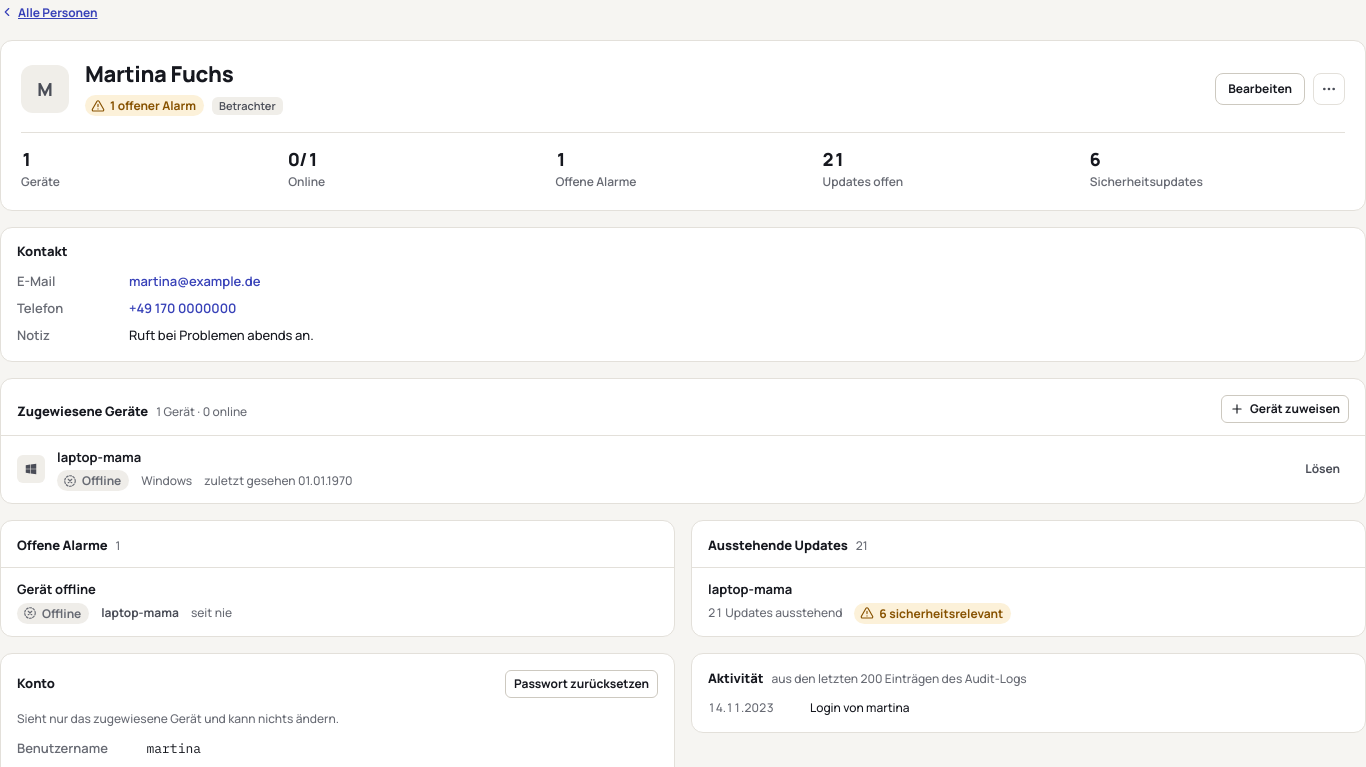
Scenario: PersonDetail › assigns a device from the fleet
Click the button "Gerät zuweisen" at [1285, 408], box [1221,394,1349,422]
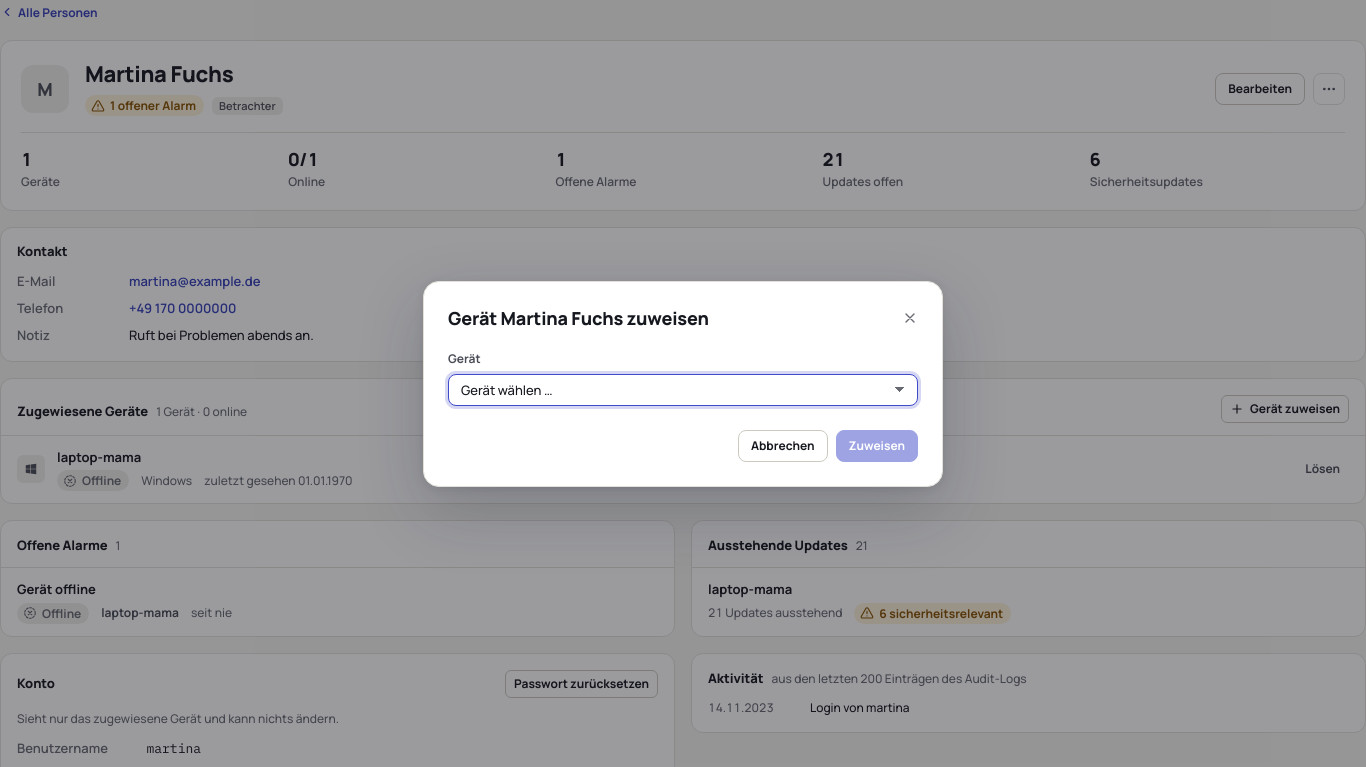
Select "drucker" in the dropdown labelled "Gerät" at [683, 390], box [448,374,918,406]
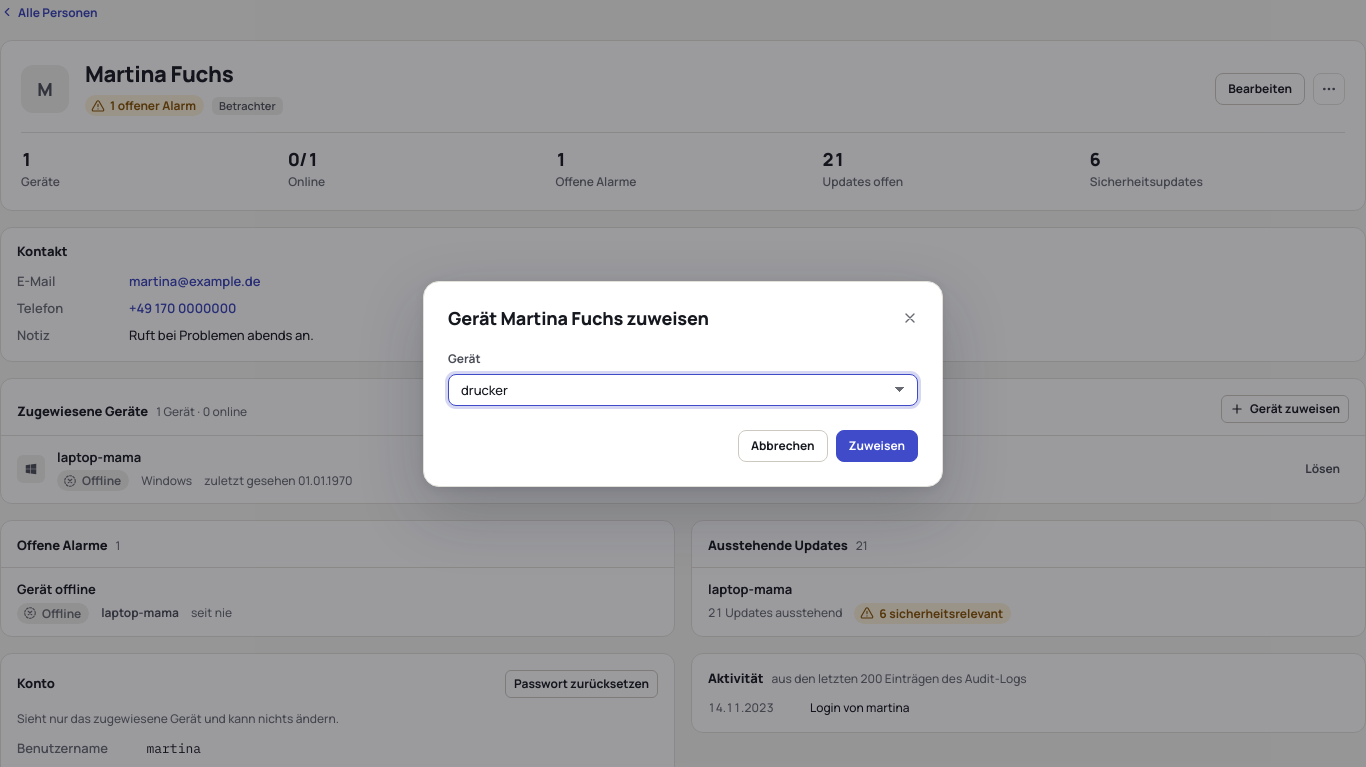
Click the button "Zuweisen" at [877, 446], box [836,430,918,462]
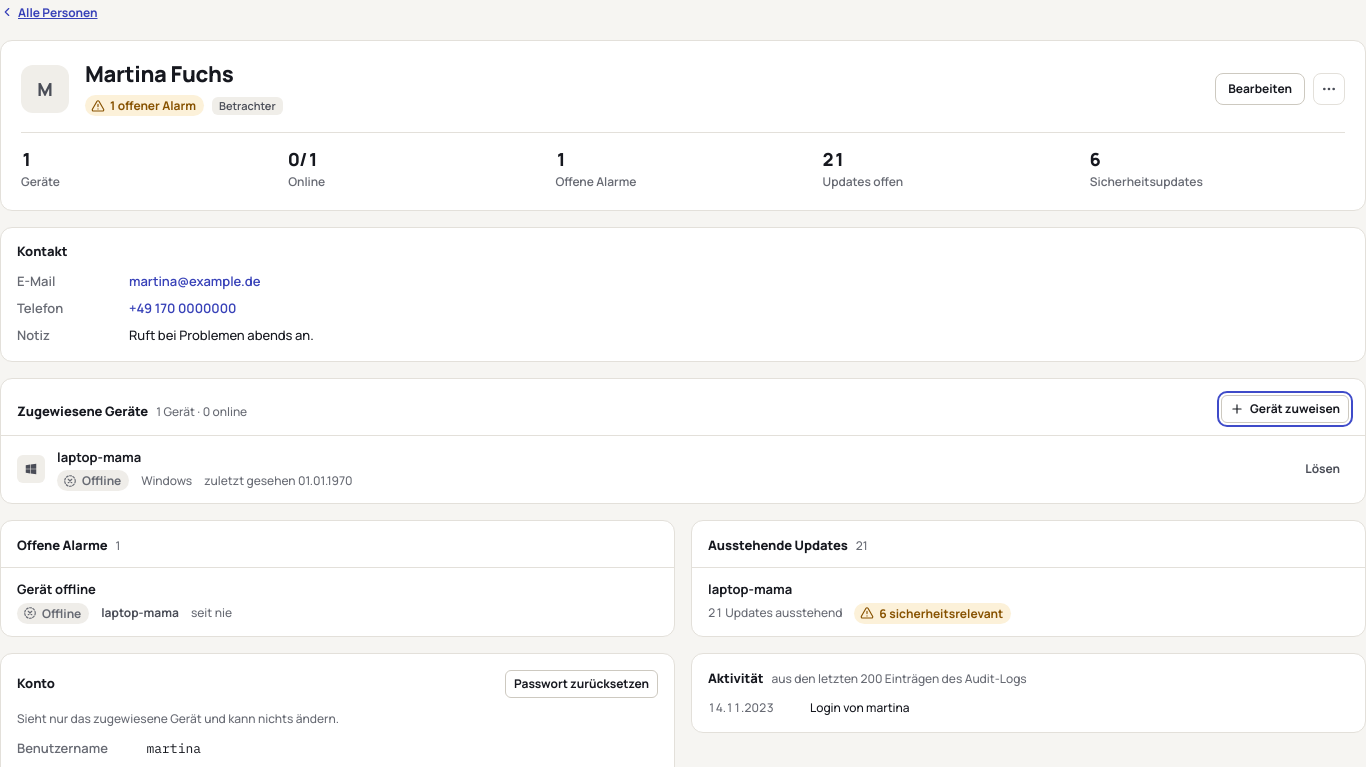
Result: the dialog is gone
